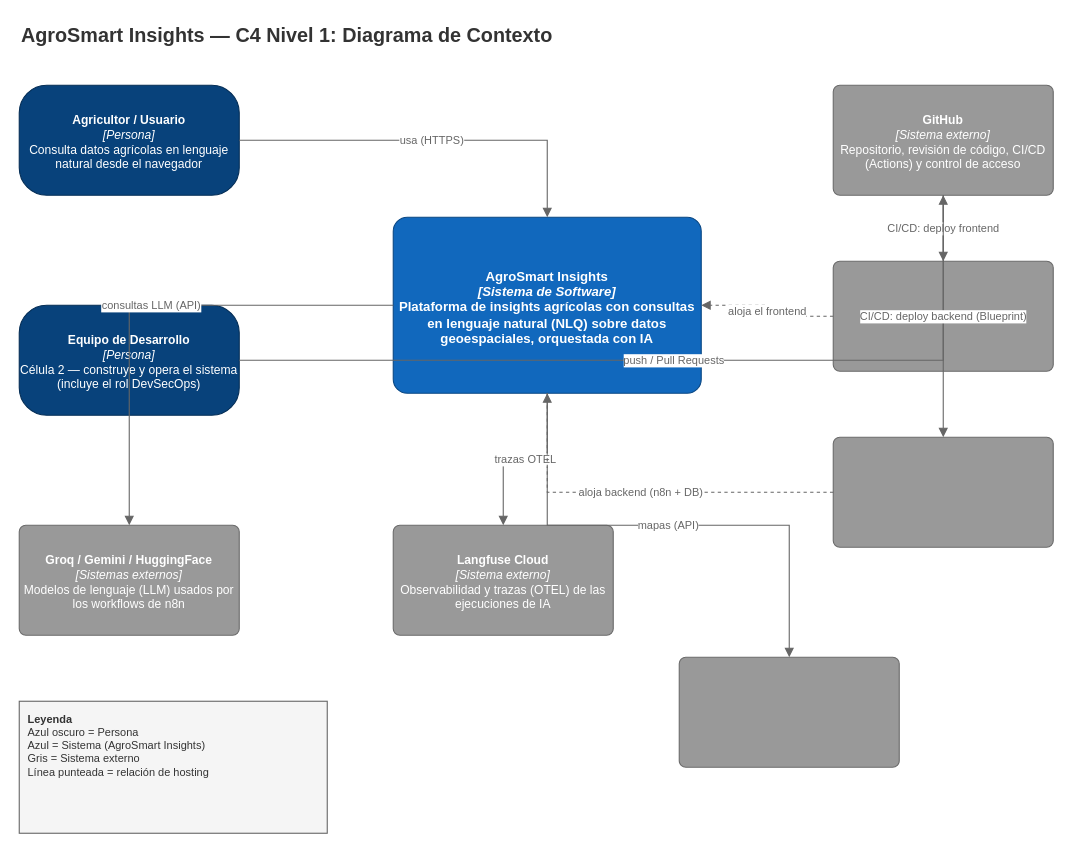
This 1073x853 diagram has some shape labels left out. The shapes that lost their labels are listed below. From the top down, each one's box as (x1, y1, x2, y2) in pixels, then its label:
(832, 260, 1053, 371): Vercel [Sistema externo] Hosting y despliegue del frontend
(832, 436, 1053, 547): Render [Sistema externo] Hosting de n8n y PostgreSQL (backend)
(678, 656, 899, 767): MapTiler [Sistema externo] Servicio de mapas y teselas geoespaciales
